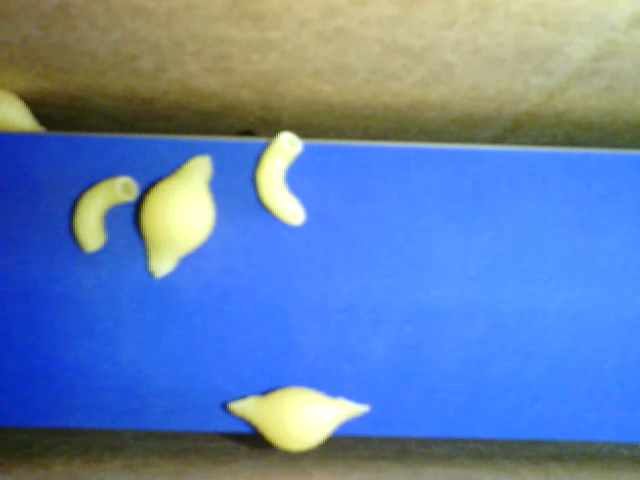elbow: (70, 173, 142, 252), (254, 128, 309, 228)
shell: (139, 151, 217, 280), (224, 386, 369, 454), (1, 89, 48, 131)
